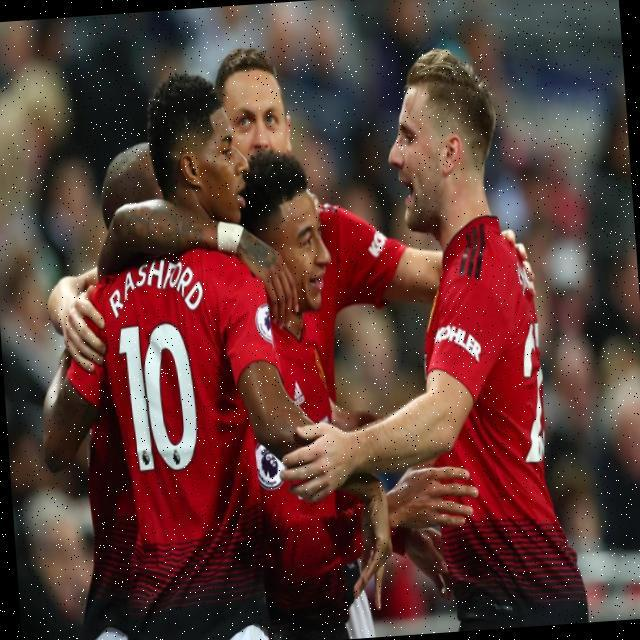Kohler: (430, 320, 484, 367)
